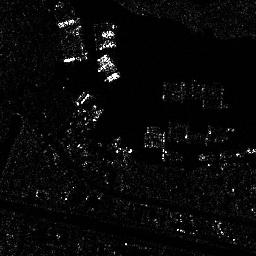ship: (103, 71, 121, 84)
